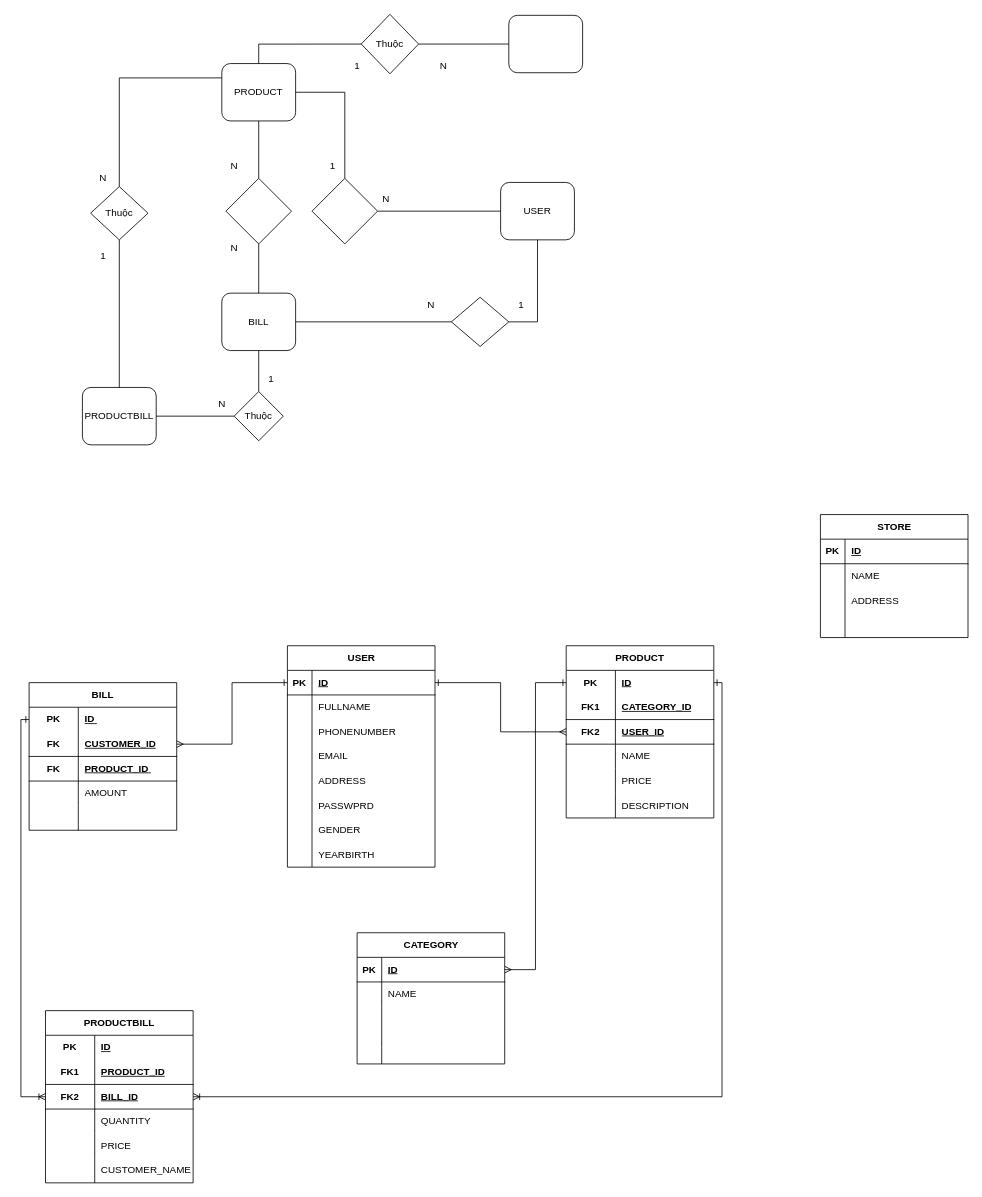
This 982x1197 diagram has some shape labels left out. Here are the shapes that lost their labels. From the top down, the centre of each, then its label:
At (x=545, y=44): "CATEROGY".
At (x=258, y=211): "Xuất".
At (x=344, y=211): "Tạo".
At (x=480, y=321): "Mua".
